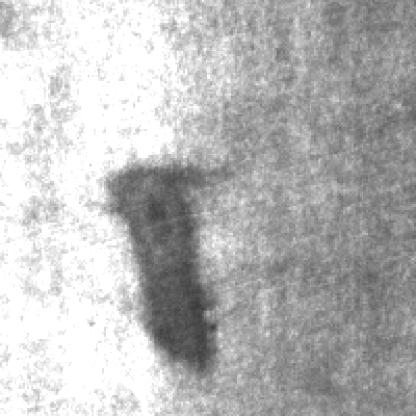patches: (106, 169, 233, 380)
